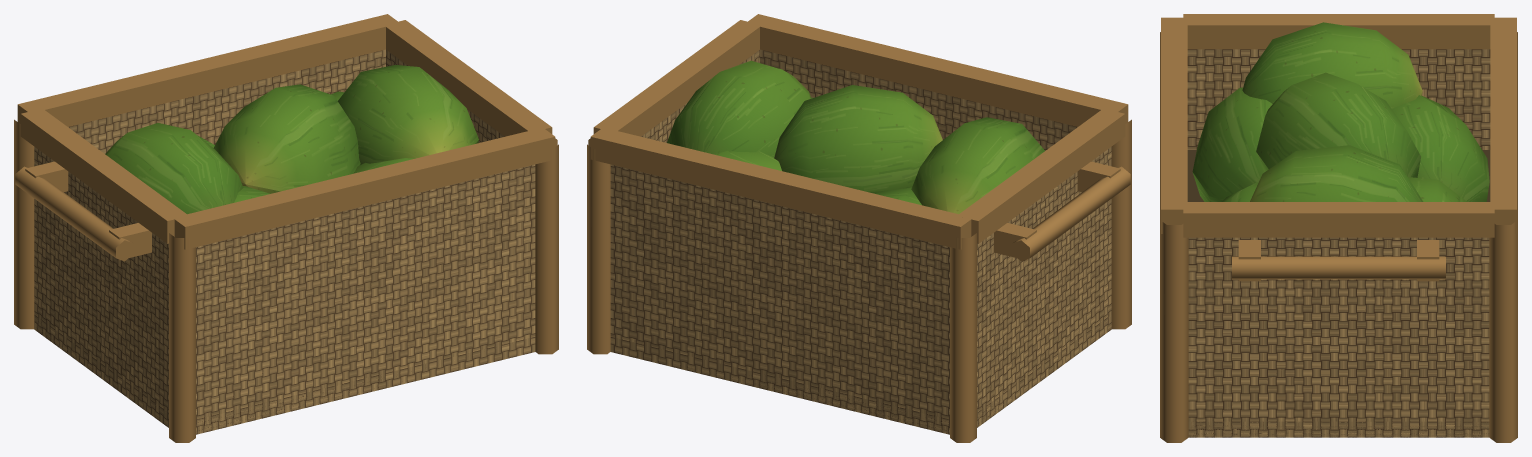
The model's file is f_kelapa_peti.glb.
3 renders of one model, left to right at view 1: azimuth 30°, elevation 25°; view 2: azimuth 150°, elevation 25°; view 3: azimuth 270°, elevation 25°, orthographic. The views are drawn at different scales.
Visible parts, largest first — view 1: dinding_depan, dinding_kiri, bibir_depan, bibir_belakang, kelapa_isi_5, kelapa_isi_6, dinding_belakang, dasar, kelapa_isi_7, bibir_kiri, bibir_kanan, tiang_3 (+6 smaller); view 2: dinding_belakang, dinding_kiri, bibir_belakang, kelapa_isi_5, bibir_depan, kelapa_isi_6, kelapa_isi_7, dasar, bibir_kiri, dinding_depan, bibir_kanan, tiang_1 (+7 smaller); view 3: dinding_kanan, bibir_kanan, kelapa_isi_5, dinding_kiri, kelapa_isi_7, bibir_kiri, kelapa_isi_6, tiang_2, tiang_4, kelapa_isi_1, kelapa_isi_3, bibir_depan (+7 smaller).
Boxes of the visible parts, box(x1,y1,x2,y2) form: dinding_depan: box(196, 164, 535, 433); dinding_kiri: box(34, 147, 168, 412); bibir_depan: box(173, 127, 555, 249); bibir_belakang: box(17, 14, 399, 126); kelapa_isi_5: box(214, 84, 360, 193); kelapa_isi_6: box(338, 65, 478, 164); dinding_belakang: box(68, 49, 385, 153); dasar: box(34, 314, 535, 434); kelapa_isi_7: box(105, 123, 243, 214); bibir_kiri: box(20, 108, 188, 243); bibir_kanan: box(386, 20, 552, 136); tiang_3: box(169, 233, 195, 442); dinding_belakang: box(610, 164, 949, 434); dinding_kiri: box(977, 147, 1111, 426); bibir_belakang: box(590, 127, 972, 249); kelapa_isi_5: box(774, 85, 942, 192); bibir_depan: box(746, 14, 1128, 126); kelapa_isi_6: box(667, 60, 811, 157); kelapa_isi_7: box(911, 117, 1044, 214); dasar: box(610, 314, 1111, 434); bibir_kiri: box(957, 108, 1125, 243); dinding_depan: box(760, 49, 1077, 150); bibir_kanan: box(593, 20, 759, 136); tiang_1: box(950, 233, 976, 442); dinding_kanan: box(1188, 237, 1489, 437); bibir_kanan: box(1183, 202, 1494, 237); kelapa_isi_5: box(1256, 72, 1420, 177); dinding_kiri: box(1187, 49, 1490, 149); kelapa_isi_7: box(1242, 22, 1422, 108); bibir_kiri: box(1183, 14, 1494, 49); kelapa_isi_6: box(1250, 145, 1423, 201); tiang_2: box(1489, 220, 1517, 442); tiang_4: box(1160, 220, 1188, 442); kelapa_isi_1: box(1192, 87, 1272, 201); kelapa_isi_3: box(1392, 95, 1489, 201); bibir_depan: box(1161, 17, 1187, 233).
Bounding box in the file's own units: 0.6082 × 0.3209 × 0.402.
4 materials, 2 textured.
